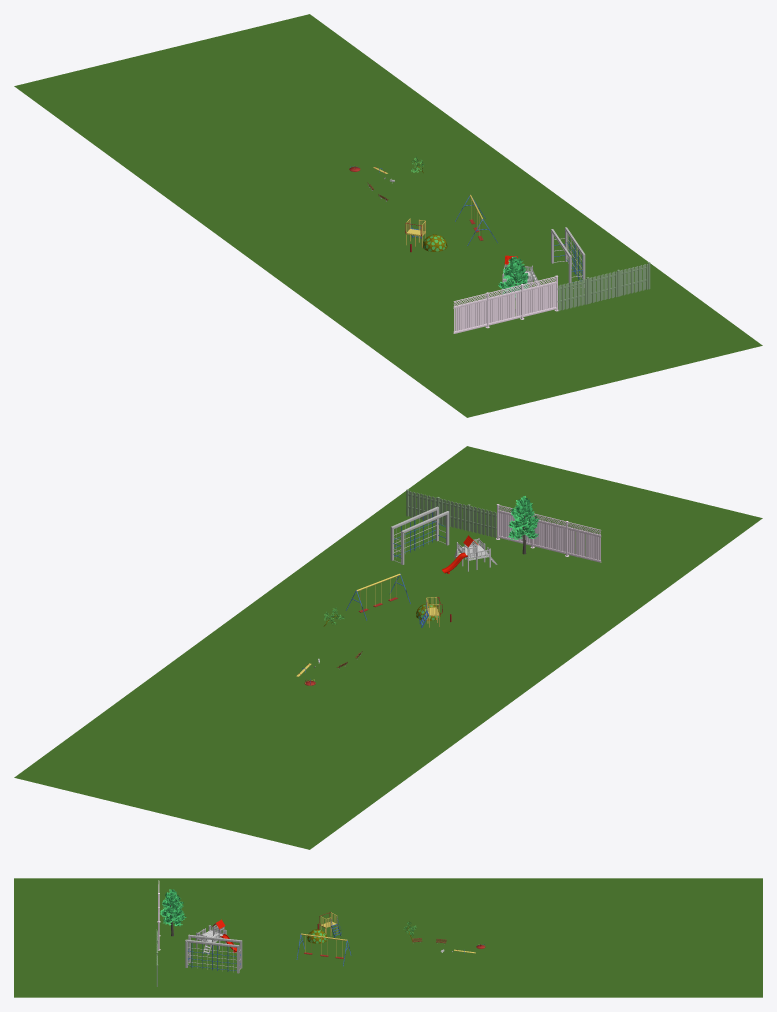
Rendered from playground.fbx.
3 views of the same model, one above another, from view 1: azimuth 30°, elevation 25°; view 2: azimuth 150°, elevation 25°; view 3: azimuth 270°, elevation 25° (orthographic). The views are drawn at different scales.
Parts seen in each view (by area): view 1: Plane, Type 1, Type 2, ДетПлощадка.002, Low Poly Tree 1 Leaves; view 2: Plane, Type 1, Type 2, ДетПлощадка.002, Low Poly Tree 1 Leaves, ДетПлощадка.001; view 3: Plane, ДетПлощадка.002, Low Poly Tree 1 Leaves, ДетПлощадка.001, Swings, Slide.
Boxes of the visible parts, bbox=[...] form: Plane: bbox=[14, 14, 762, 417]; Type 1: bbox=[453, 275, 558, 333]; Type 2: bbox=[557, 262, 650, 311]; ДетПлощадка.002: bbox=[551, 227, 585, 289]; Low Poly Tree 1 Leaves: bbox=[498, 256, 528, 297]; Plane: bbox=[14, 446, 762, 849]; Type 1: bbox=[496, 504, 601, 562]; Type 2: bbox=[406, 489, 496, 537]; ДетПлощадка.002: bbox=[390, 506, 449, 564]; Low Poly Tree 1 Leaves: bbox=[508, 496, 539, 539]; ДетПлощадка.001: bbox=[442, 535, 497, 573]; Plane: bbox=[14, 878, 762, 997]; ДетПлощадка.002: bbox=[185, 934, 242, 973]; Low Poly Tree 1 Leaves: bbox=[160, 889, 186, 926]; ДетПлощадка.001: bbox=[196, 919, 236, 955]; Swings: bbox=[296, 933, 351, 966]; Slide: bbox=[317, 912, 341, 937].
Bounding box in the file's own units: 4641 × 1055 × 12311.
